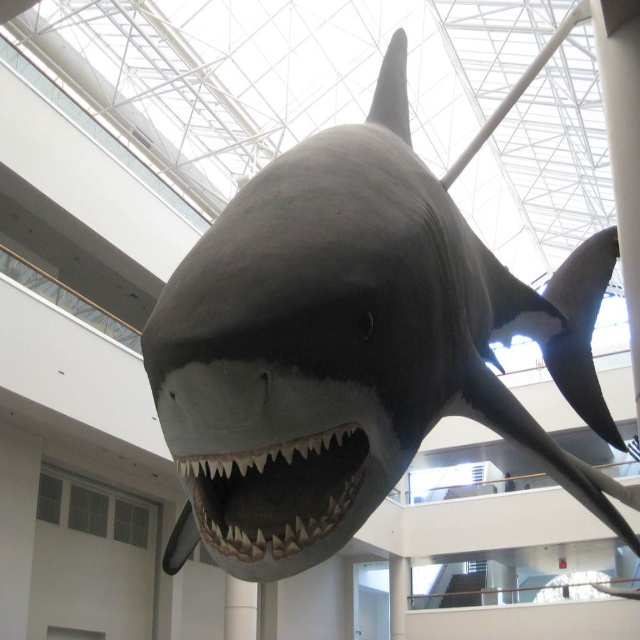Shark: (140, 34, 640, 586)
